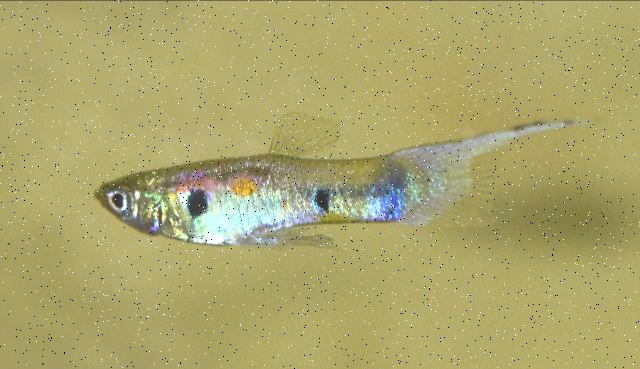Mulut: (80, 173, 132, 225)
Sirip Anal: (257, 214, 353, 272)
Sirip Ekor: (388, 105, 618, 255)
Sirip Punggung: (251, 92, 369, 172)
